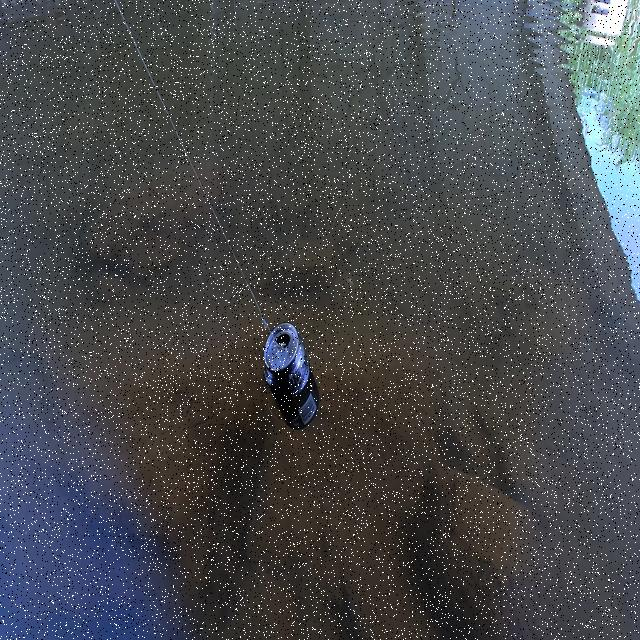Can: (262, 316, 322, 432)
